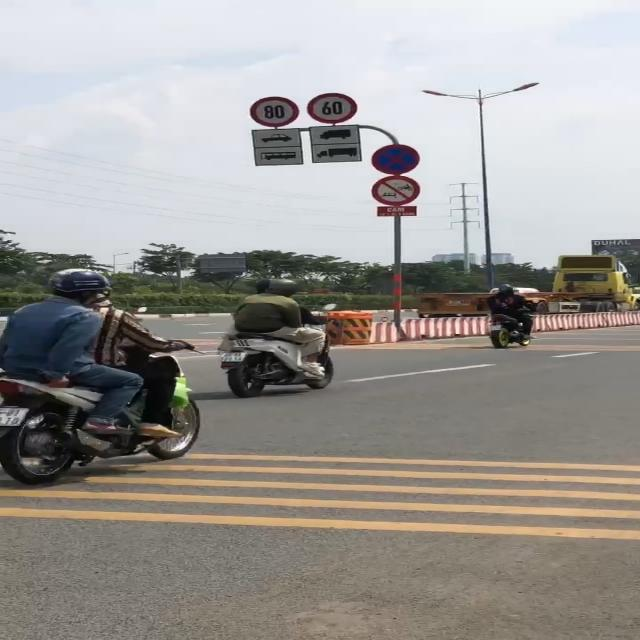Bien bao cam dung xe va do xe: (368, 142, 422, 176)
Bien bao toc do toi da cho phep: (248, 91, 301, 128), (306, 92, 360, 125)
